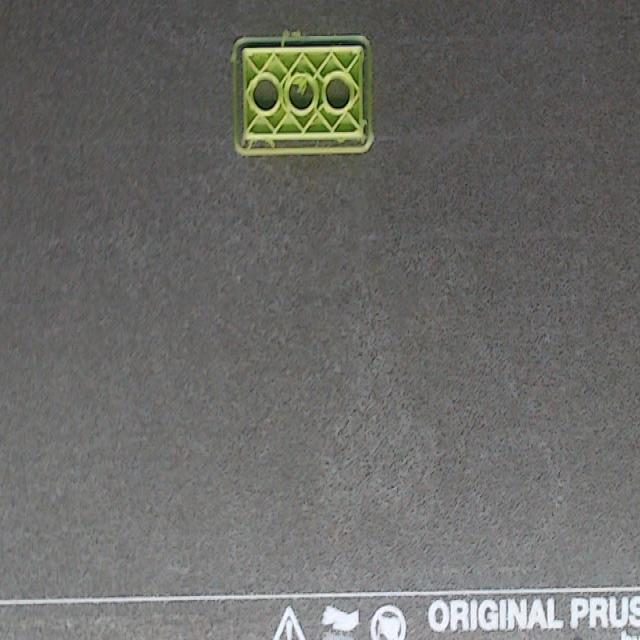mistake: (242, 127, 283, 148), (291, 75, 313, 108), (281, 29, 302, 47), (361, 119, 369, 145)
